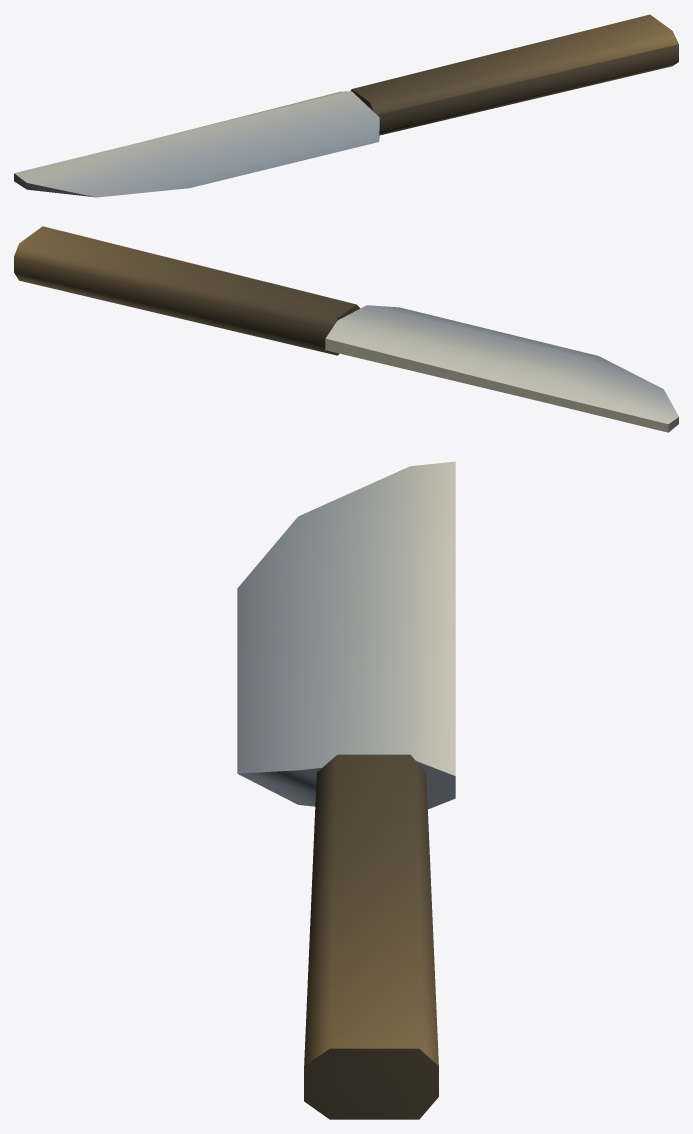
The model's file is knife_cuttlery_wood_metal.fbx.
3 views of the same model, one above another, from view 1: azimuth 30°, elevation 25°; view 2: azimuth 150°, elevation 25°; view 3: azimuth 270°, elevation 25° (orthographic). The views are drawn at different scales.
Visible parts, largest first — view 1: knife_cuttlery_wood_metal; view 2: knife_cuttlery_wood_metal; view 3: knife_cuttlery_wood_metal.
Boxes of the visible parts, bbox=[...] form: knife_cuttlery_wood_metal: bbox=[14, 14, 678, 197]; knife_cuttlery_wood_metal: bbox=[14, 226, 678, 432]; knife_cuttlery_wood_metal: bbox=[237, 461, 455, 1119].
Bounding box in the file's own units: 43.25 × 2.35 × 6.53.
